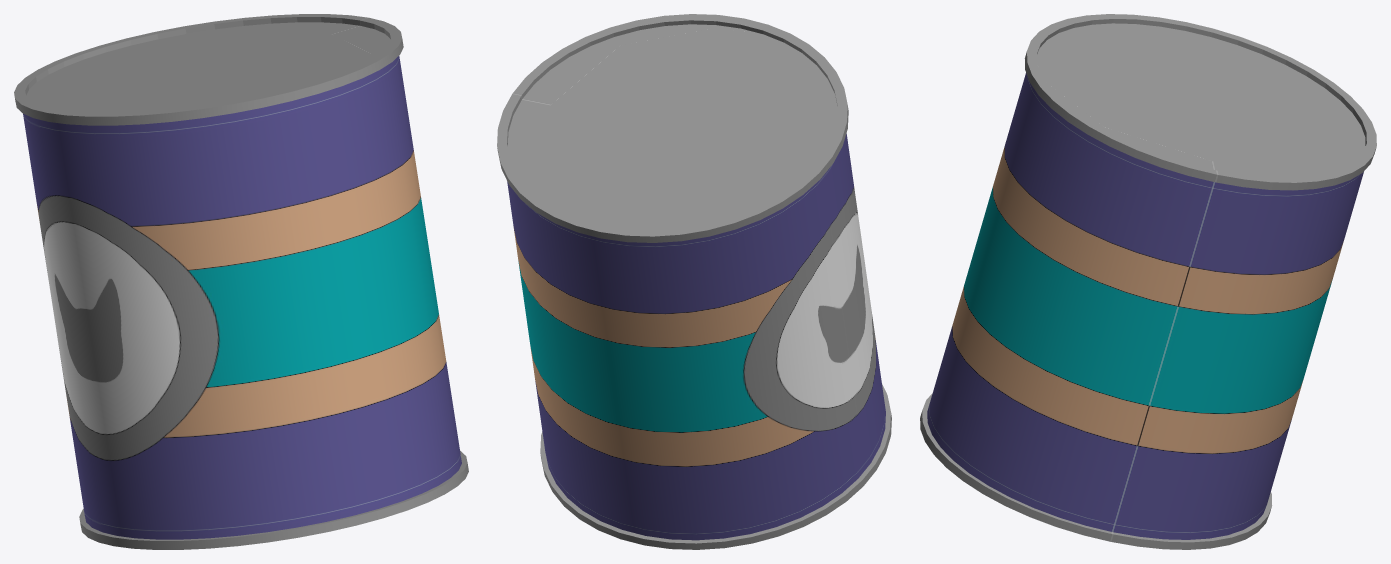
The model's file is kon.fbx.
3 views of the same model, side by side, from view 1: azimuth 30°, elevation 25°; view 2: azimuth 150°, elevation 25°; view 3: azimuth 270°, elevation 25° (orthographic). The views are drawn at different scales.
Parts seen in each view (by area): view 1: Cylinder0s01; view 2: Cylinder0s01; view 3: Cylinder0s01.
Part boxes in pixels (x1,y1,x2,y2): Cylinder0s01: [14, 14, 468, 549]; Cylinder0s01: [497, 14, 891, 549]; Cylinder0s01: [920, 14, 1376, 549].
Size of the model in its own units: 21.83 by 29.08 by 26.86.
